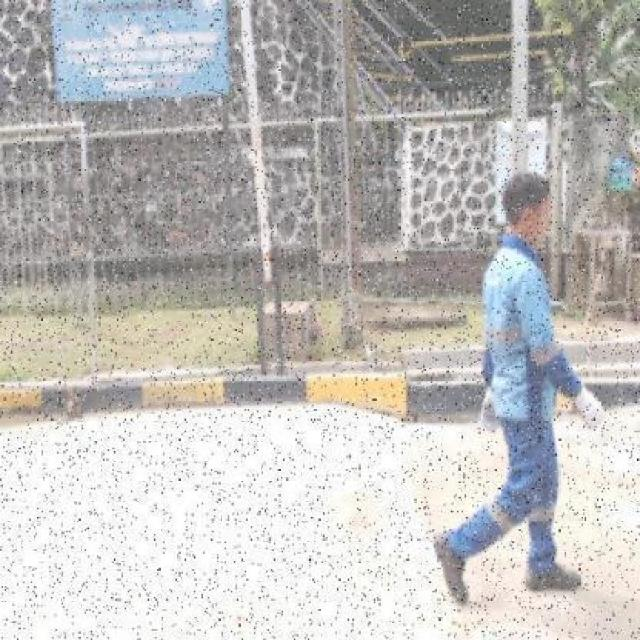Boots: (428, 528, 472, 608), (523, 557, 588, 600)
Gloves: (567, 382, 608, 442), (478, 383, 505, 435)
